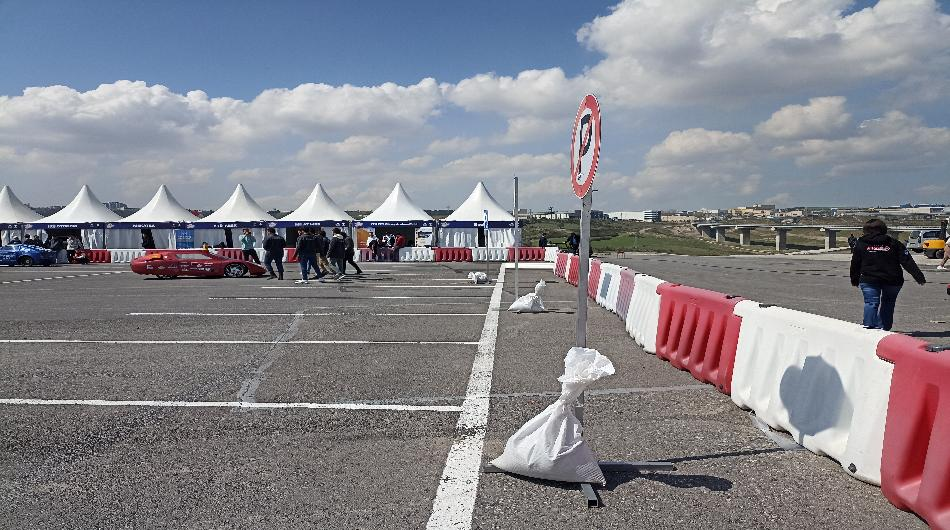park_yapilmaz_3: (556, 88, 616, 206)
